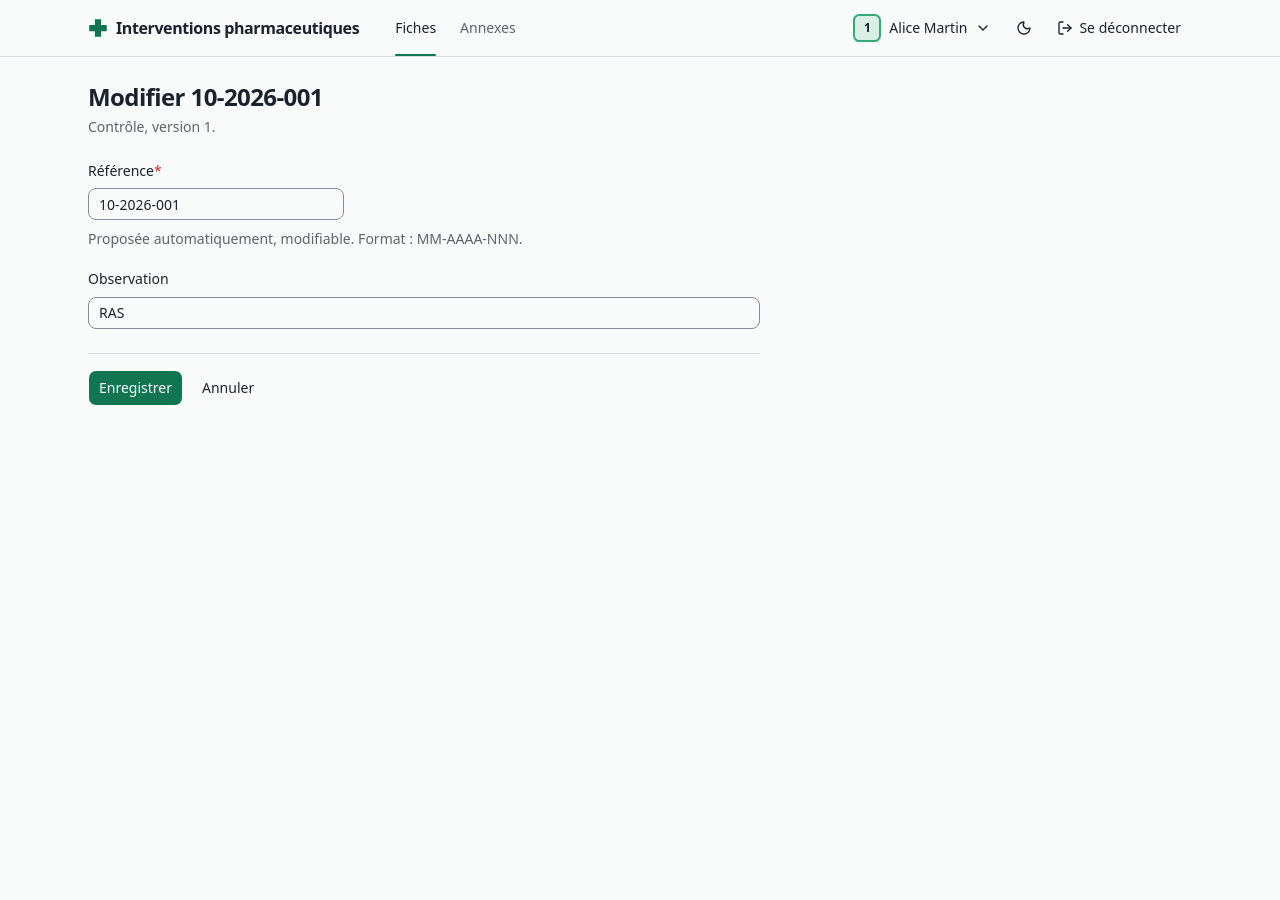
Fiche editor › unsaved changes: leaving asks for confirmation (router blocker) and the tab close is warned (beforeunload)
Replace the text in the field labelled "Observation" with "Modifié" at {"x": 424, "y": 312}, box [88,296,760,328]
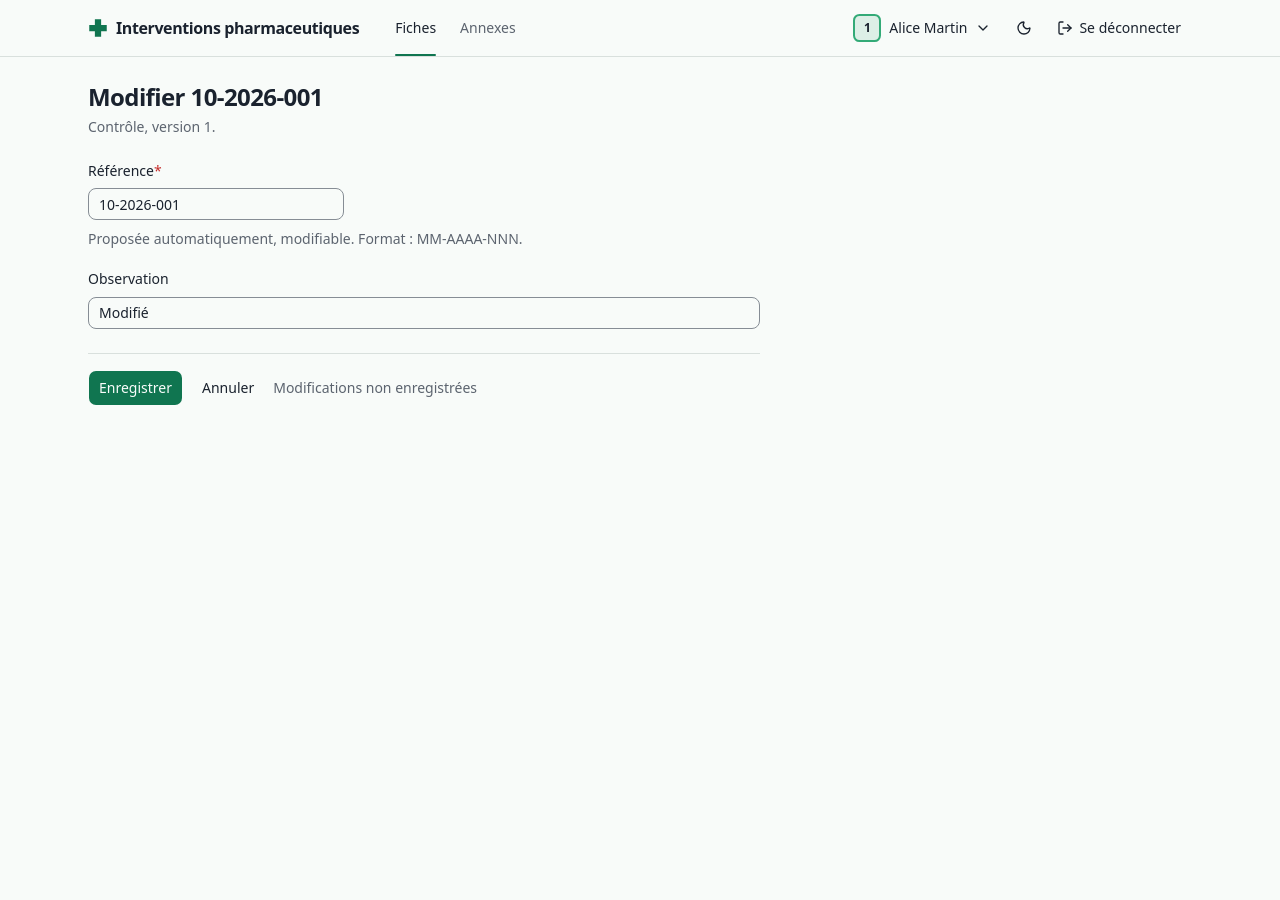
Check: the text "Modifications non enregistrées" is shown, box [273,378,477,398]
Click the link "Annexes" at {"x": 488, "y": 28}, box [460,18,516,37]
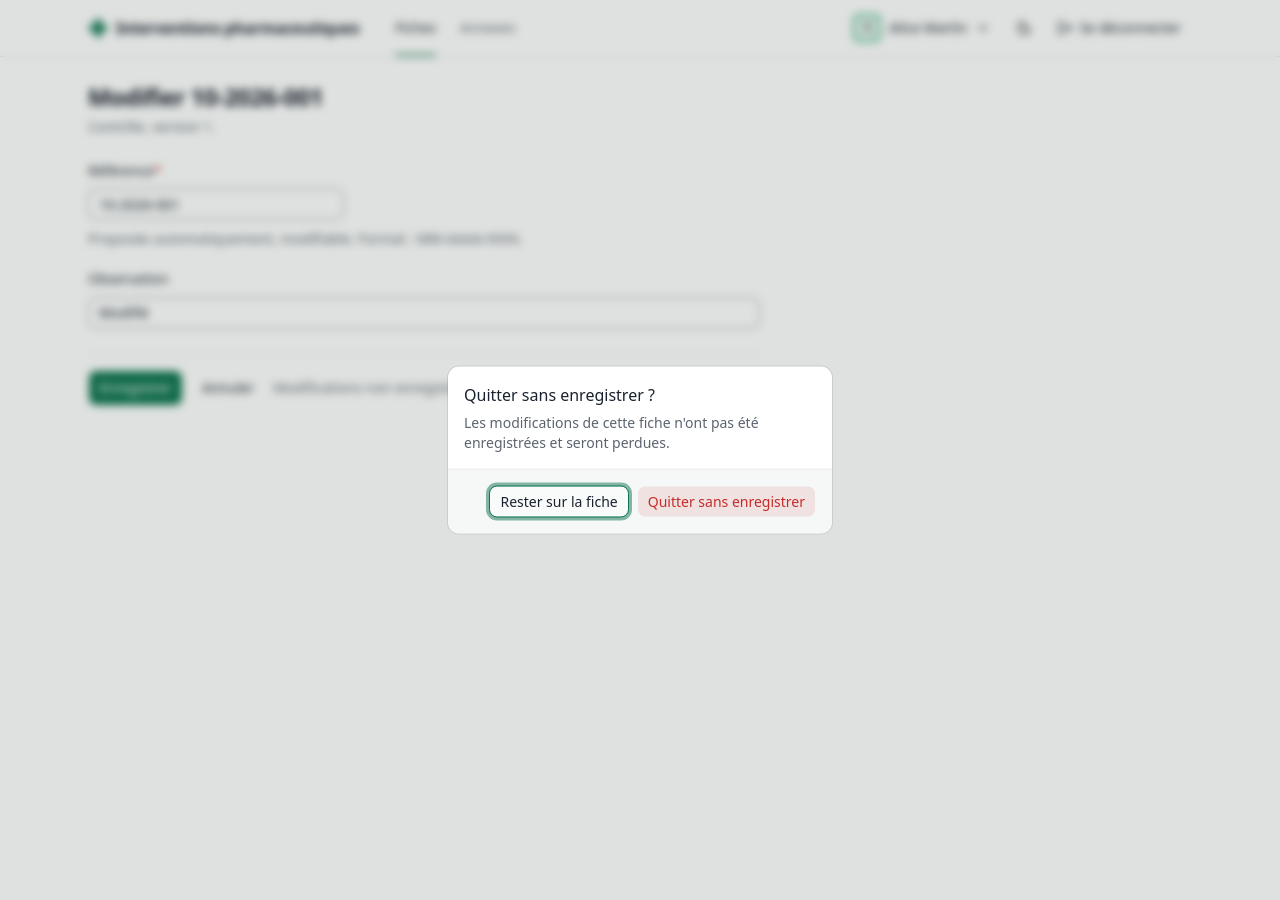
Check: the heading "Quitter sans enregistrer ?" is shown, box [464,382,655,406]
Click the button "Rester sur la fiche" at {"x": 559, "y": 502}, box [489,486,629,518]
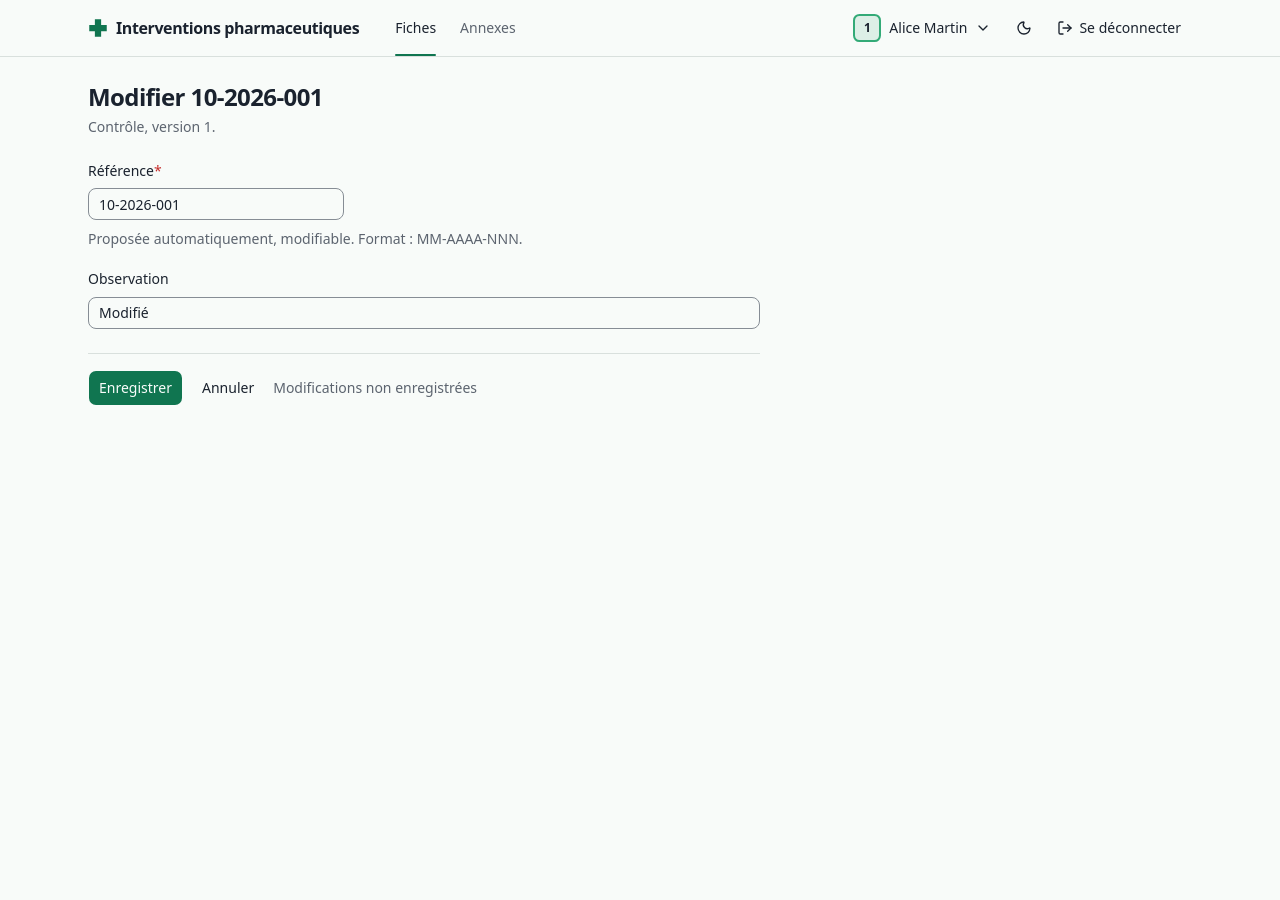
Check: the dialog is gone
